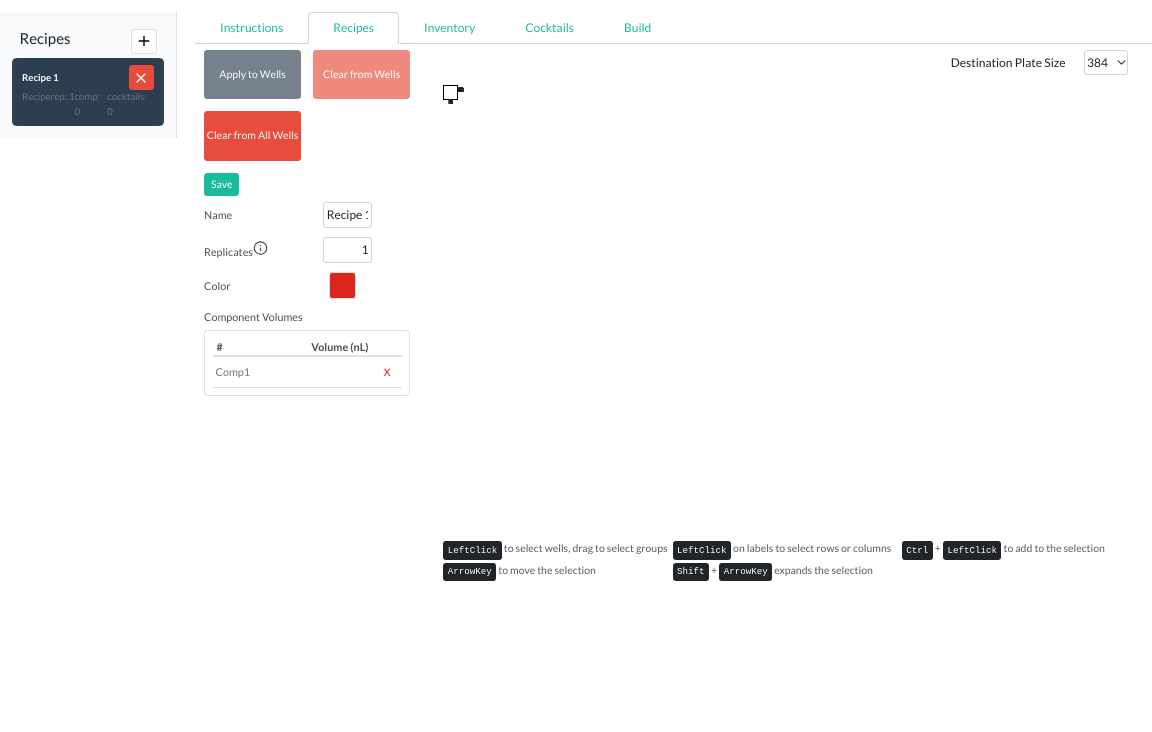
Scenario: CocktailBuilder designer smoke test › Apply is blocked until a region is selected, and says why
Hover over the element showing "Apply to Wells": [253, 75] box [204,50,301,99]
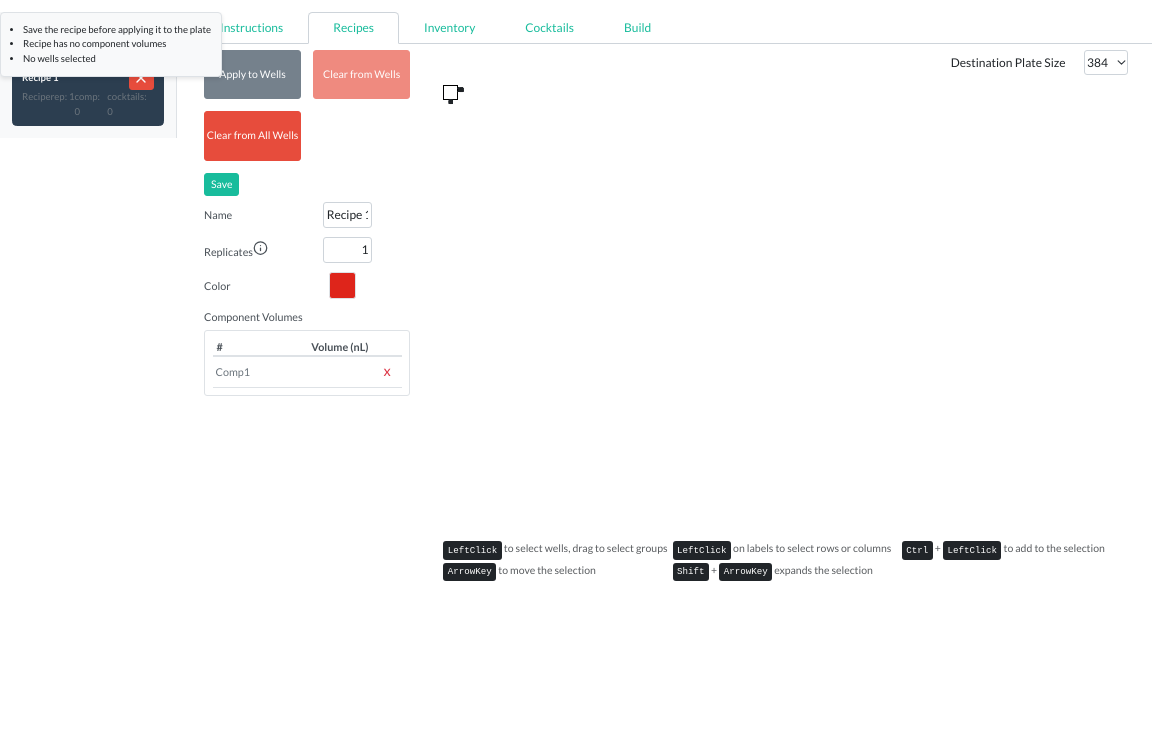
Check: the list item "Save the recipe before applying it to the plate" is shown, box [23,23,211,37]
